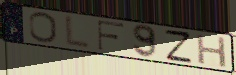9: (131, 23, 159, 60)
F: (96, 19, 126, 52)
H: (195, 33, 228, 69)
L: (64, 14, 92, 51)
O: (28, 11, 59, 45)
Z: (163, 28, 194, 64)
